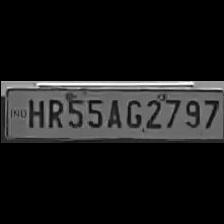2: (143, 96, 161, 130)
5: (84, 95, 104, 129), (64, 95, 82, 129)
7: (160, 96, 180, 128), (201, 96, 221, 128)
9: (179, 97, 199, 129)
A: (104, 96, 122, 128)
G: (122, 96, 142, 128)
H: (22, 96, 44, 128)
R: (43, 96, 63, 130)
